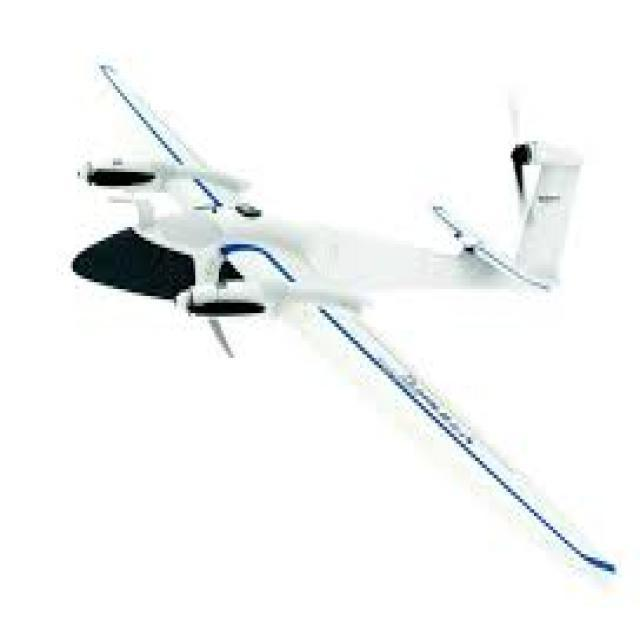UAV: (59, 115, 612, 526)
